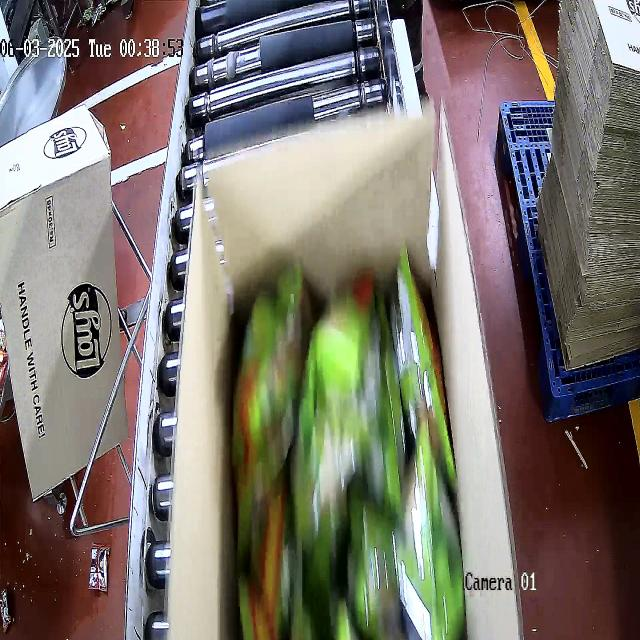YOGURT_HERB: (230, 244, 466, 638)
